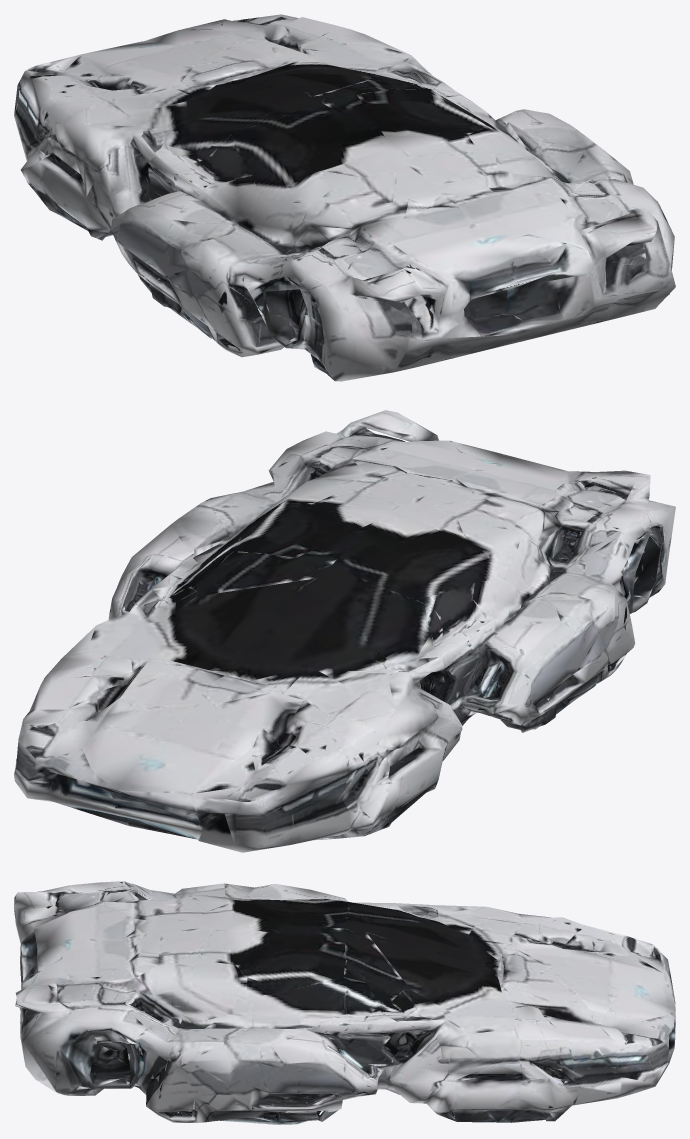
File: tide-hovercar.glb
3 views of the same model, one above another, from view 1: azimuth 30°, elevation 25°; view 2: azimuth 150°, elevation 25°; view 3: azimuth 270°, elevation 25° (orthographic). The views are drawn at different scales.
Parts seen in each view (by area): view 1: body_mesh; view 2: body_mesh; view 3: body_mesh.
Part boxes in pixels (x1,y1,x2,y2): body_mesh: [14, 14, 675, 381]; body_mesh: [14, 410, 675, 852]; body_mesh: [14, 881, 675, 1124].
Bounding box in the file's own units: 3.59 × 1.25 × 5.81.
1 material, 1 textured.
